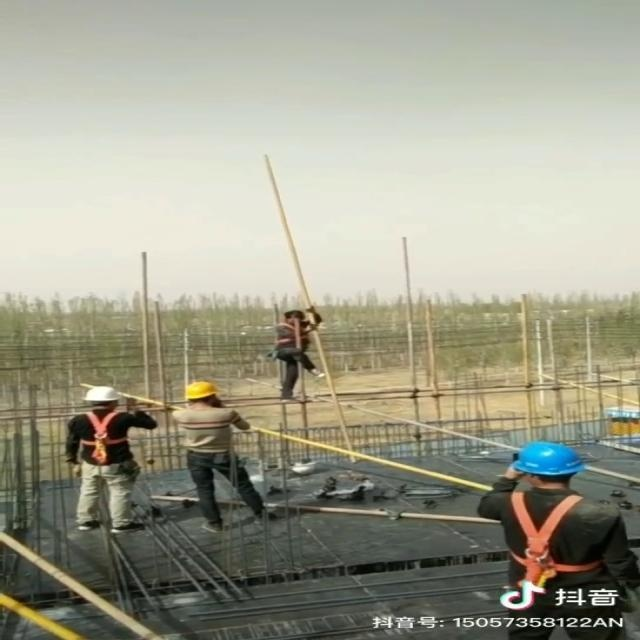Arnes_seguridad: (486, 491, 615, 583), (70, 410, 136, 468), (272, 321, 312, 350)
